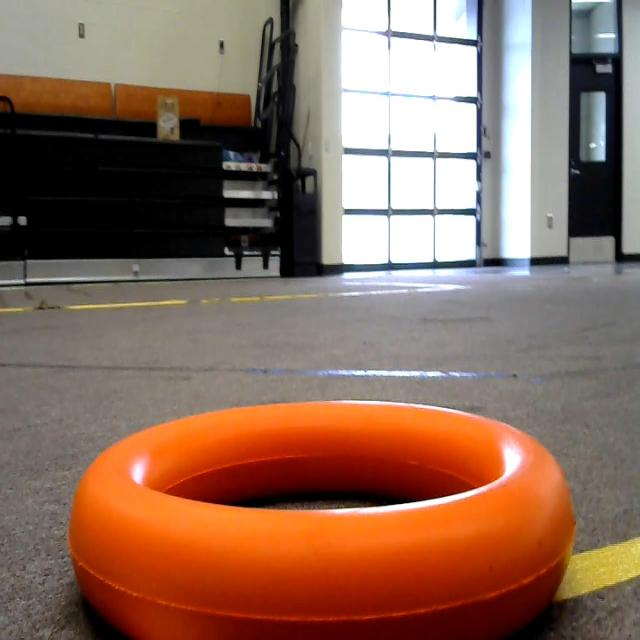note: (59, 368, 582, 640)
